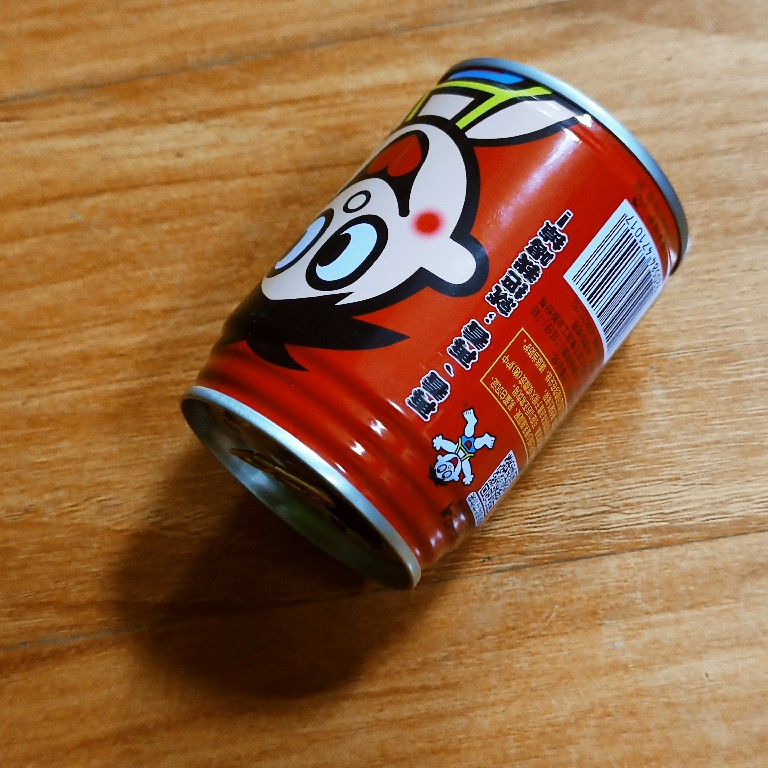can: (176, 55, 691, 591)
